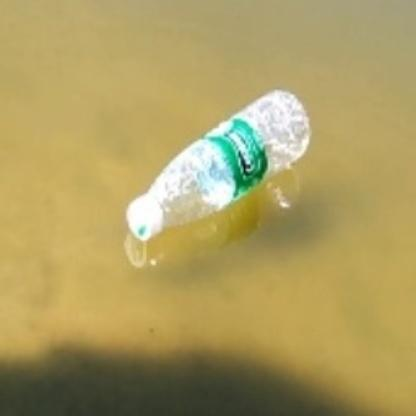plastic bottle: (124, 89, 312, 242)
